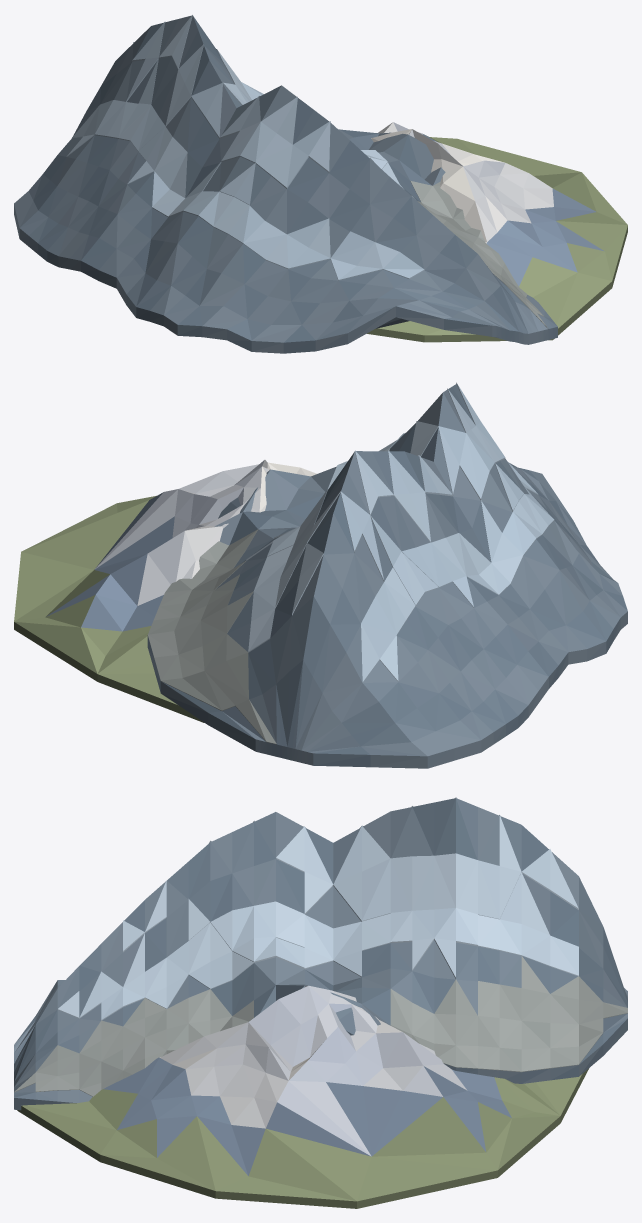
Rendered from massif_west_spur_rim53.glb.
3 views of the same model, one above another, from view 1: azimuth 30°, elevation 25°; view 2: azimuth 150°, elevation 25°; view 3: azimuth 270°, elevation 25° (orthographic). The views are drawn at different scales.
Visible parts, largest first — view 1: ridge_shoulders, rock_body, snow_gully, snow_cap, shore_rock_apron; view 2: ridge_shoulders, rock_body, snow_gully, snow_cap, shore_rock_apron; view 3: rock_body, ridge_shoulders, shore_rock_apron, snow_cap, snow_gully.
Boxes of the visible parts, left/top/right/bottom form: ridge_shoulders: left=14, top=15, right=557, bottom=353; rock_body: left=367, top=122, right=627, bottom=342; snow_gully: left=66, top=100, right=487, bottom=280; snow_cap: left=118, top=15, right=415, bottom=205; shore_rock_apron: left=410, top=181, right=547, bottom=328; ridge_shoulders: left=147, top=384, right=627, bottom=768; rock_body: left=14, top=460, right=316, bottom=722; snow_gully: left=248, top=461, right=554, bottom=682; snow_cap: left=246, top=382, right=524, bottom=615; shore_rock_apron: left=147, top=529, right=276, bottom=744; rock_body: left=17, top=985, right=589, bottom=1208; ridge_shoulders: left=14, top=798, right=627, bottom=1110; shore_rock_apron: left=14, top=956, right=627, bottom=1096; snow_cap: left=123, top=797, right=578, bottom=978; snow_gully: left=57, top=872, right=578, bottom=1020.
Bounding box in the file's own units: 742 × 312 × 750.
